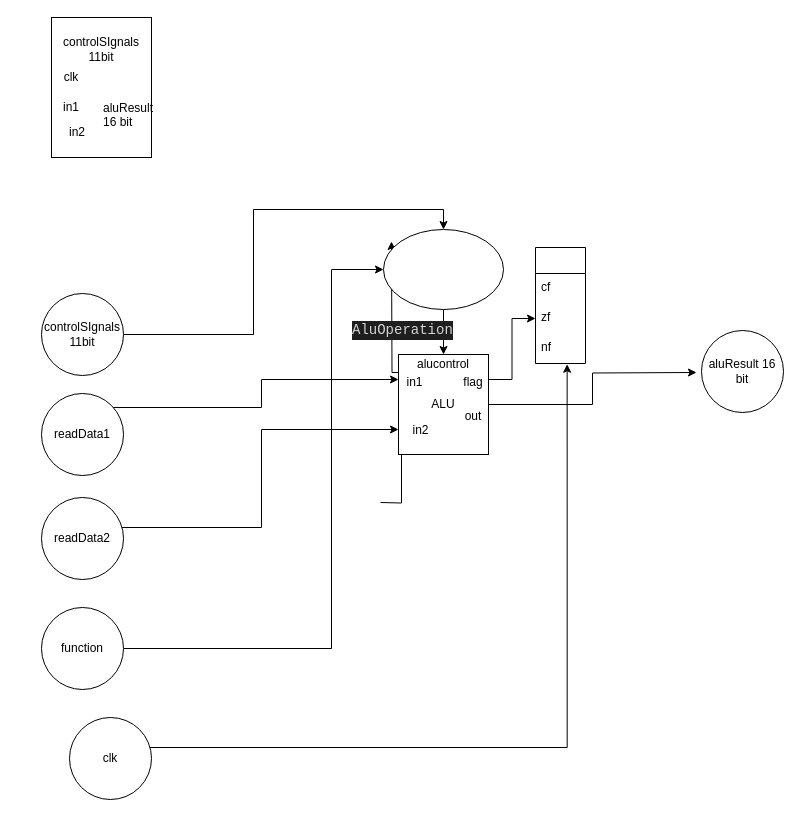
The diagram is 801 pixels wide and 817 high, and some of its shapes have lost their labels. Each missing label, with the box of its shape:
ALU Control: (382, 228, 504, 310)
Execute: (50, 16, 152, 158)
Flag reg: (534, 246, 586, 364)
